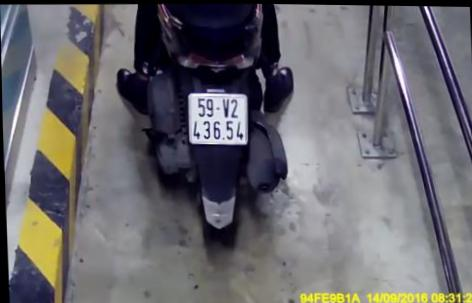LP: (186, 89, 249, 147)
